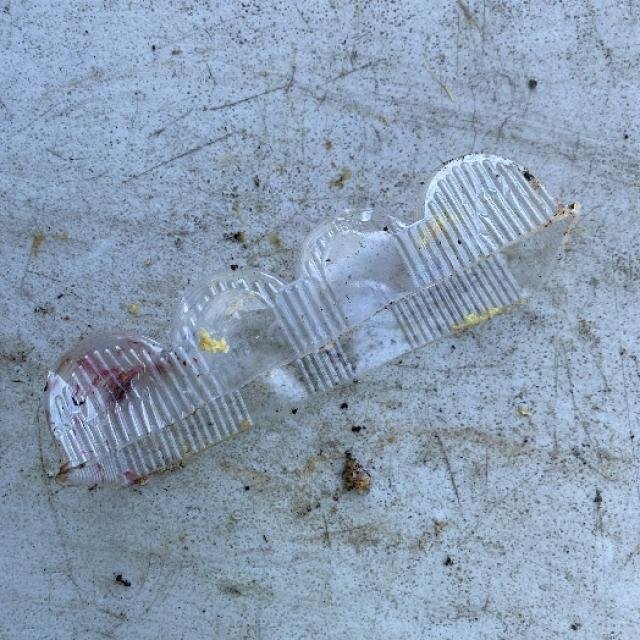plastik_botol: (44, 154, 581, 499)
